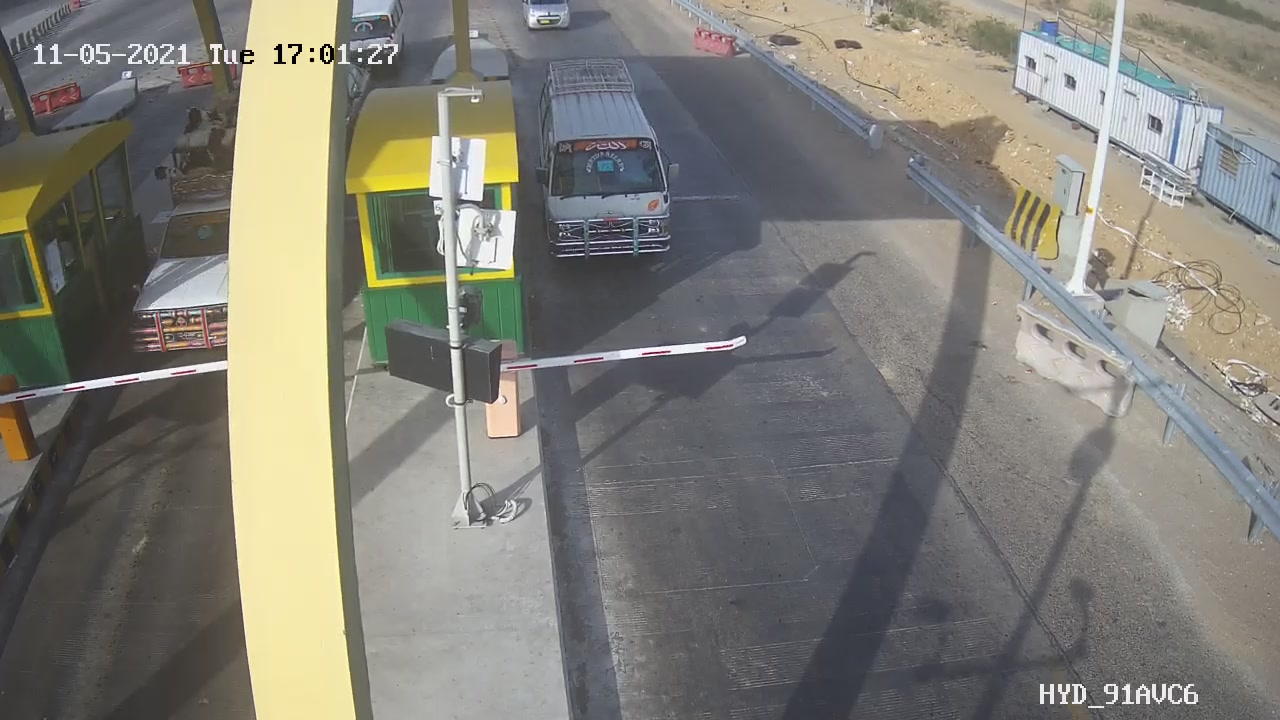F2: (521, 48, 699, 279)
